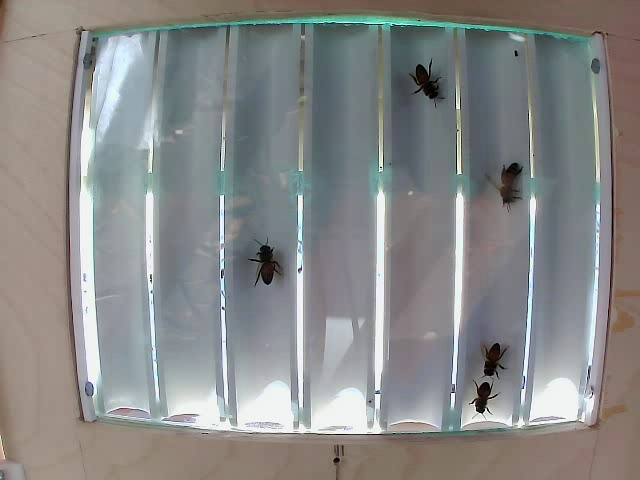bee: (249, 236, 297, 282), (410, 62, 447, 101), (466, 378, 504, 414), (491, 155, 527, 191), (479, 335, 511, 373)
